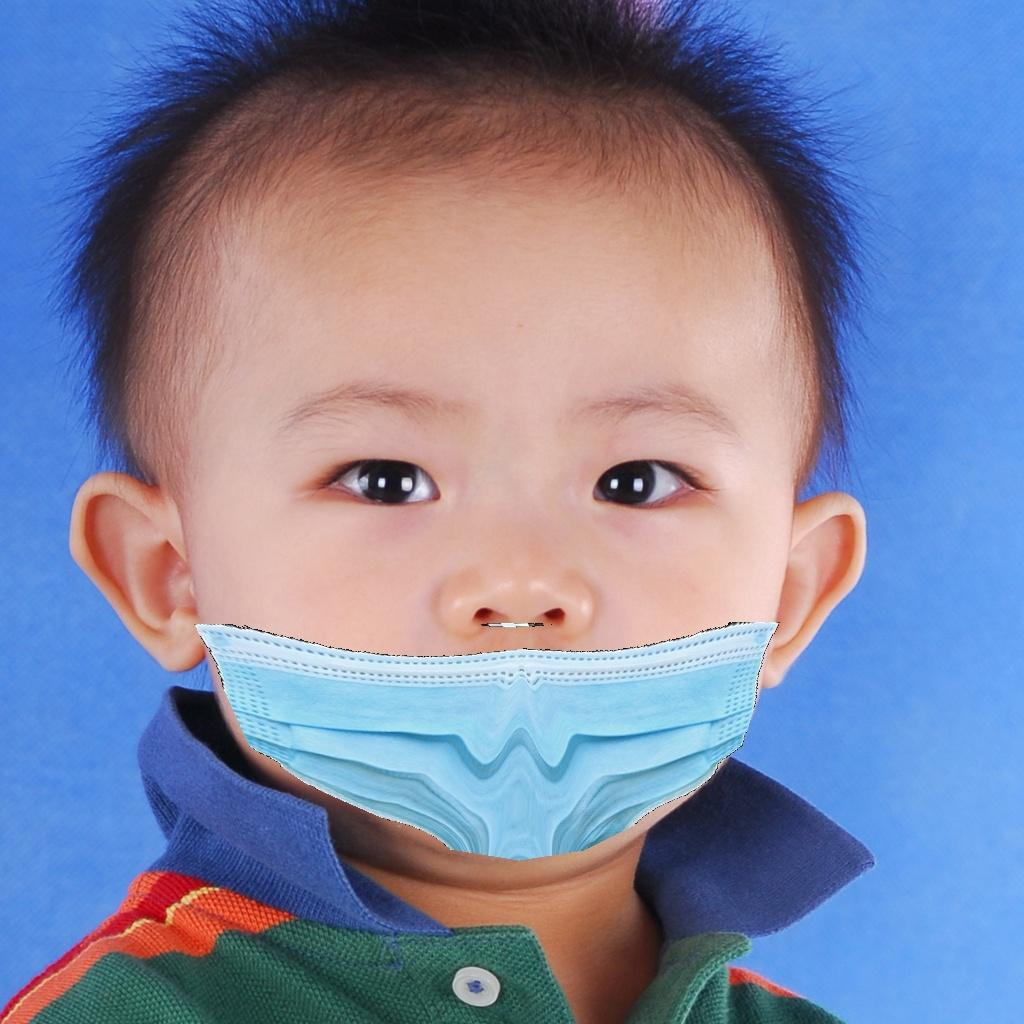Máscara Incorreta: (159, 190, 813, 861)
